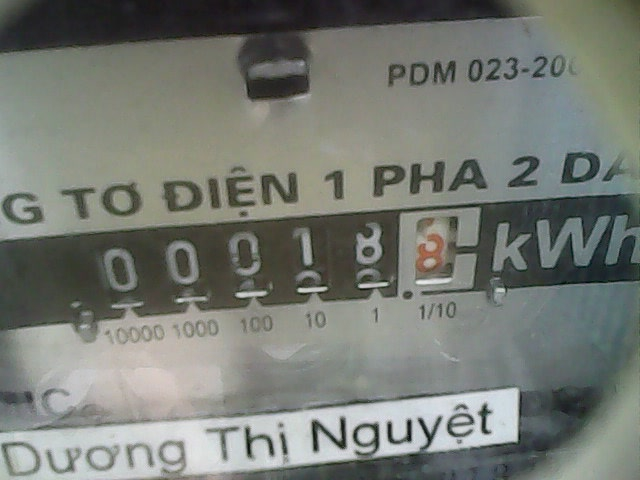phy_plate: (86, 203, 486, 310)
